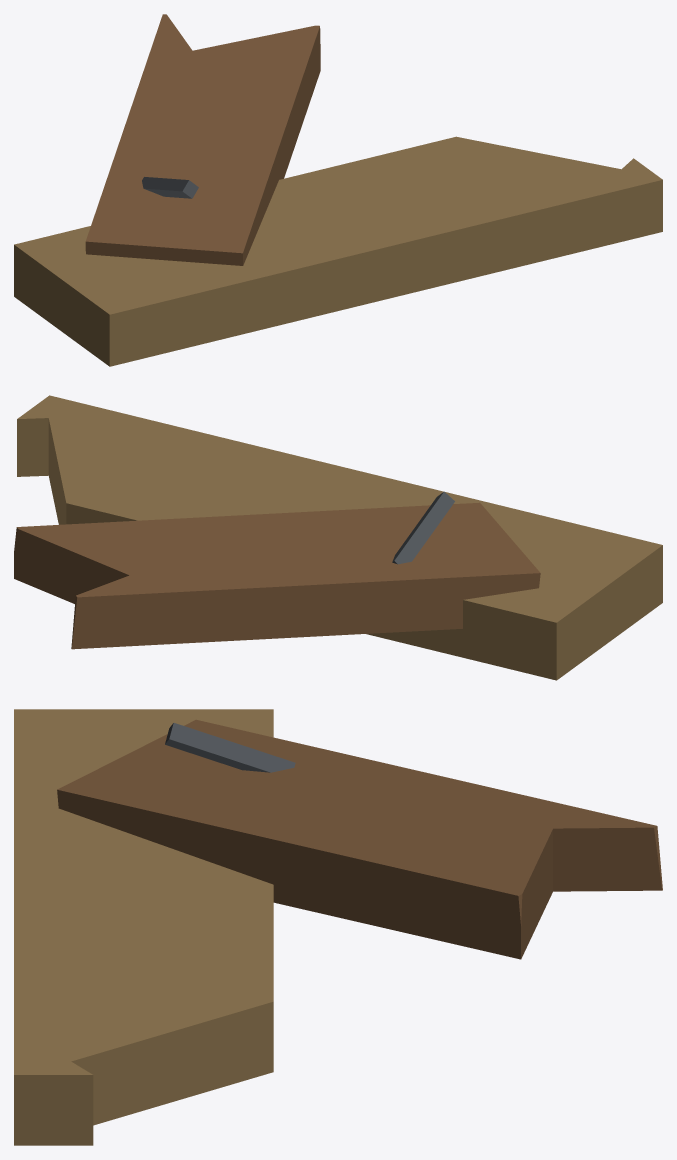
Rendered from debris_planche.glb.
The picture shows the model from 3 angles, top to bottom: view 1: azimuth 30°, elevation 25°; view 2: azimuth 150°, elevation 25°; view 3: azimuth 270°, elevation 25°; orthographic projection. The views are drawn at different scales.
Visible parts, largest first — view 1: plank, piece, nail; view 2: piece, plank, nail; view 3: plank, piece, nail.
Boxes of the visible parts, x1,y1,x2,y2 form: plank: [14, 136, 662, 366]; piece: [85, 14, 320, 265]; nail: [142, 177, 198, 198]; piece: [14, 502, 540, 649]; plank: [17, 395, 662, 680]; nail: [392, 491, 454, 564]; plank: [14, 709, 273, 1145]; piece: [57, 719, 662, 959]; nail: [165, 723, 295, 772].
Bounding box in the file's own units: 0.2 × 0.0379 × 0.15.
3 materials, 3 textured.
